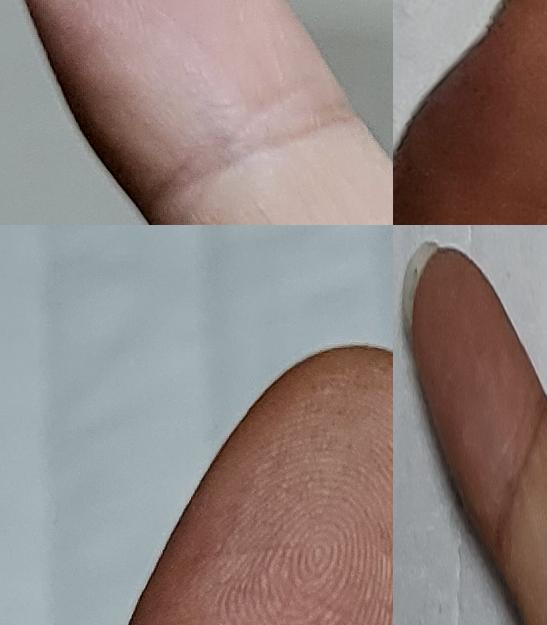Fingerprints: (128, 345, 393, 625), (36, 0, 347, 190), (413, 248, 546, 563), (393, 0, 547, 225)
